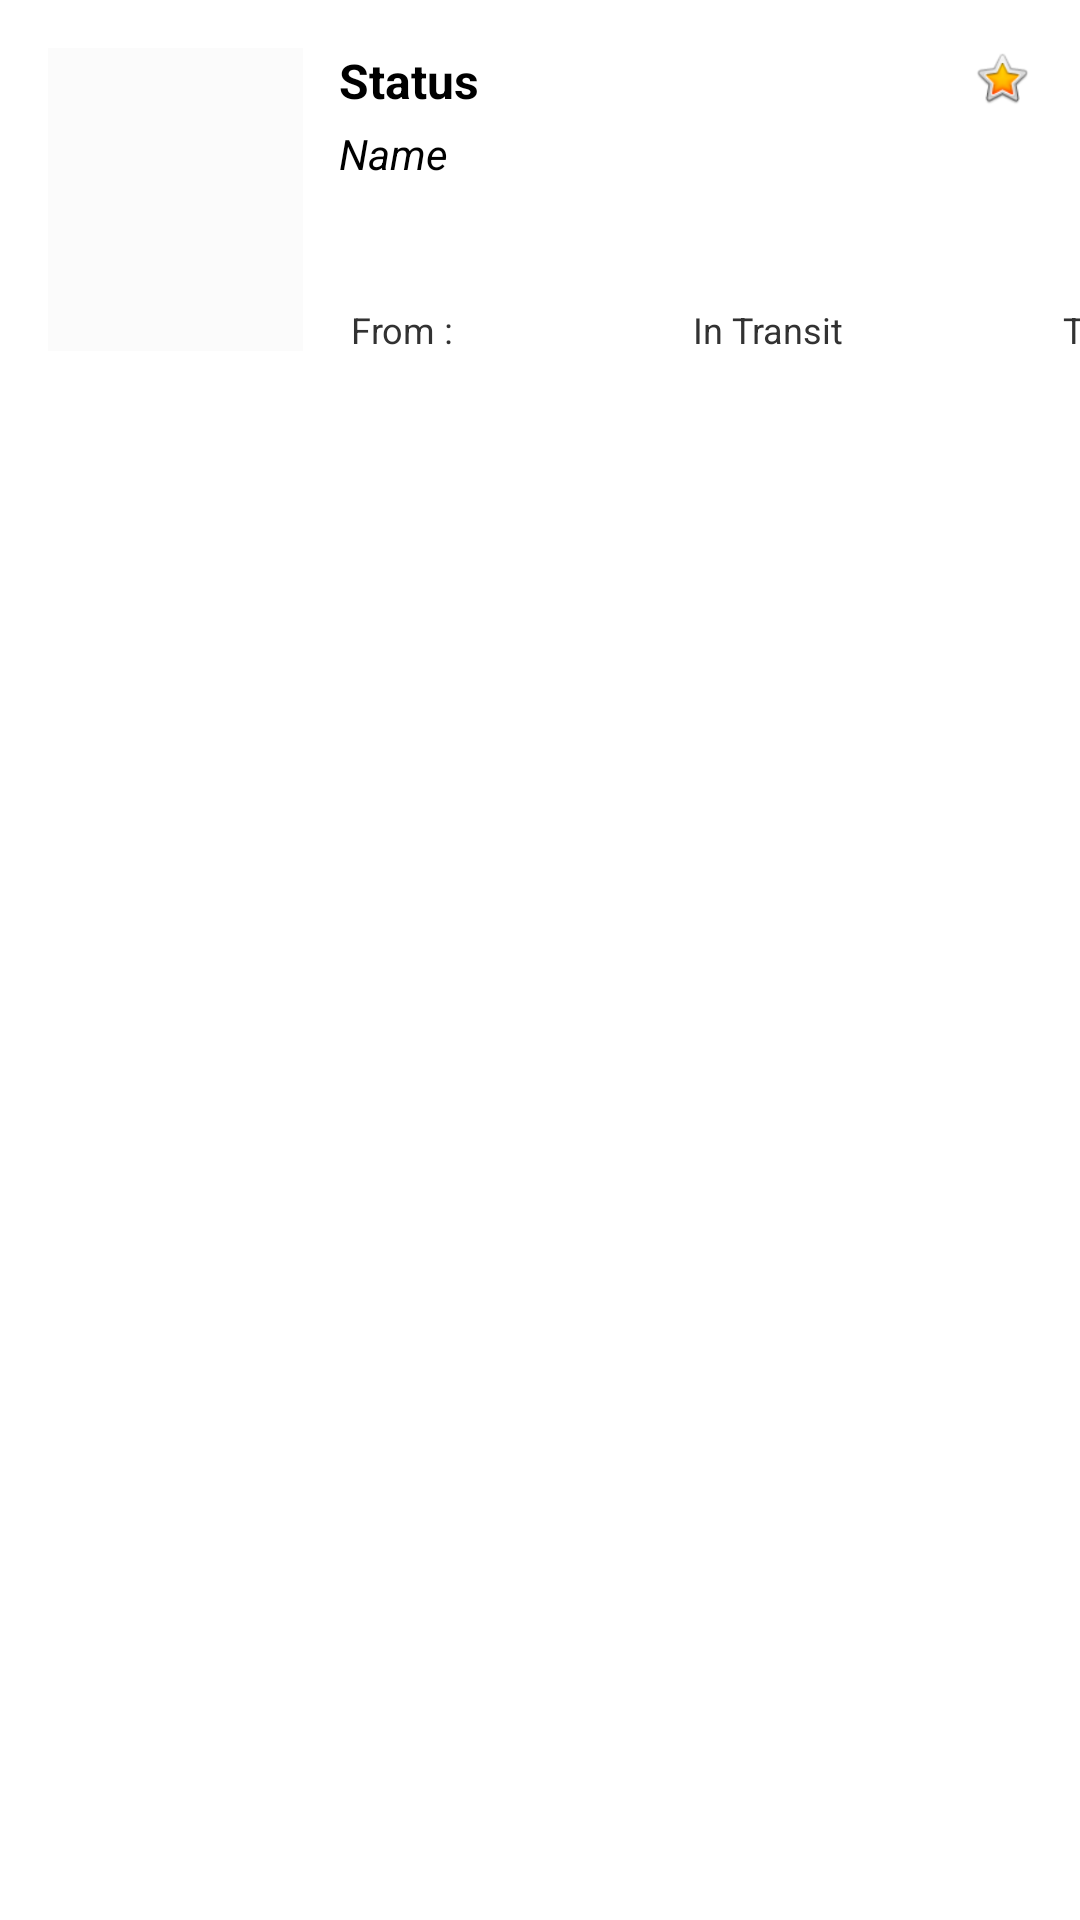

Screen size 1080×1920. Icon name, then its center in pixels as point (x, y):
star on: point (1002, 78)
